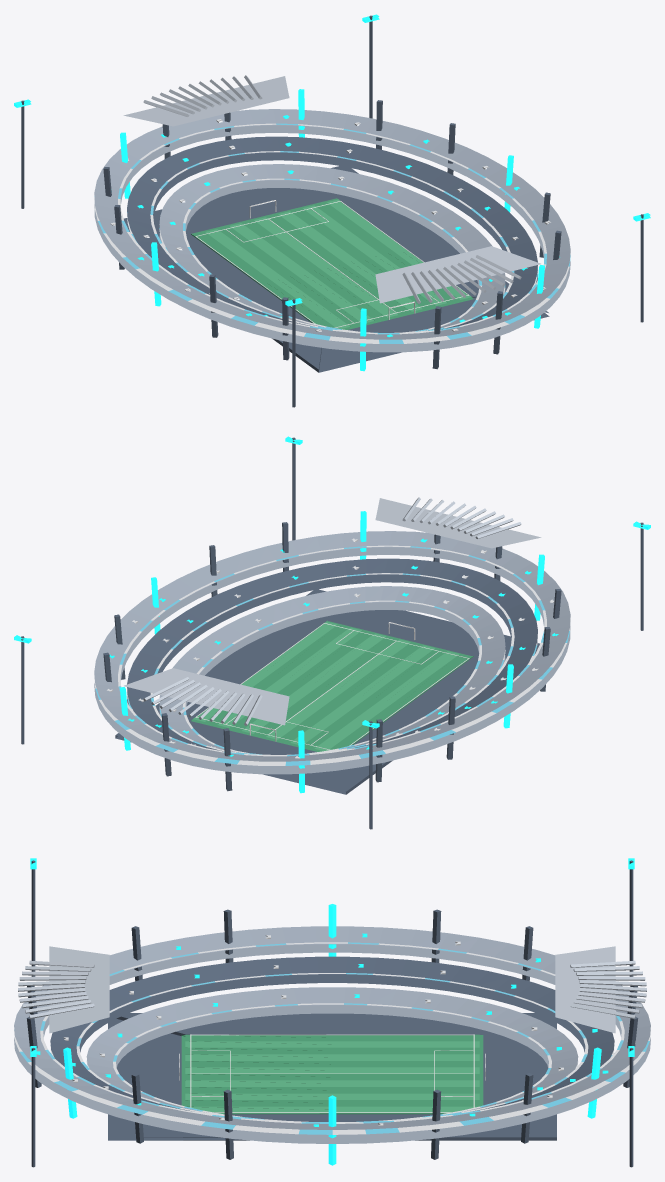
The model's file is etihad.glb.
The picture shows the model from 3 angles, top to bottom: view 1: azimuth 30°, elevation 25°; view 2: azimuth 150°, elevation 25°; view 3: azimuth 270°, elevation 25°; orthographic projection. The views are drawn at different scales.
Parts seen in each view (by area): view 1: Etihad Stadium; view 2: Etihad Stadium; view 3: Etihad Stadium.
Part boxes in pixels (<box>): Etihad Stadium: <box>14,14,650,407</box>; Etihad Stadium: <box>14,436,650,829</box>; Etihad Stadium: <box>14,858,650,1167</box>.
Size of the model in its own units: 62.32 by 17.65 by 82.33.
